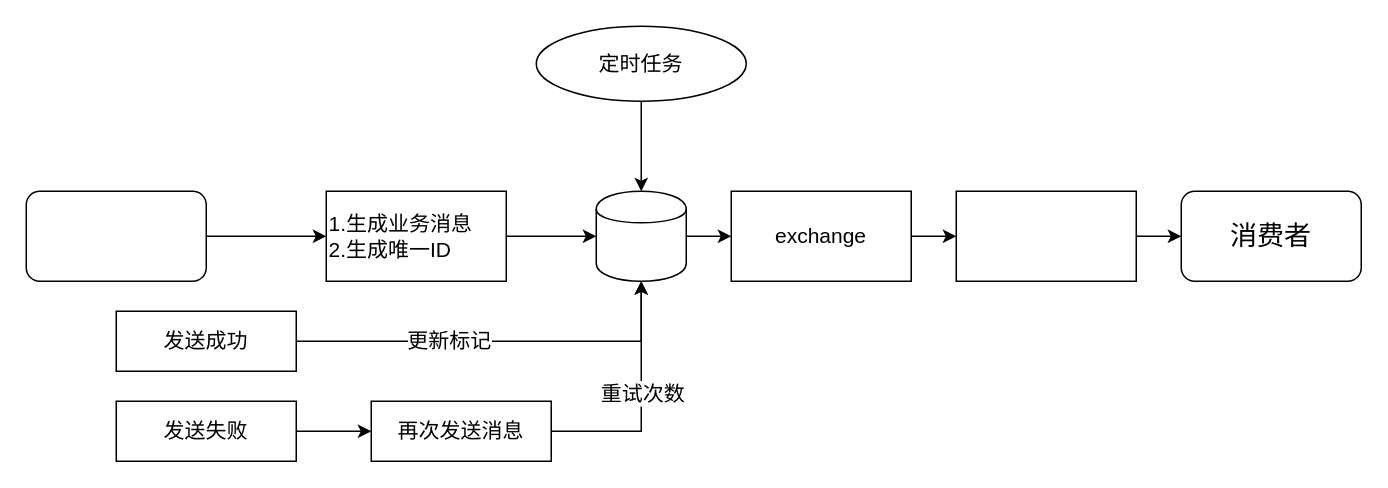
Image size: 1388x488. Some labels were removed from this diagram. Each missing label, with the centre of its shape:
DB: (x=640, y=235)
queue: (x=1045, y=235)
生产者: (x=115, y=235)
